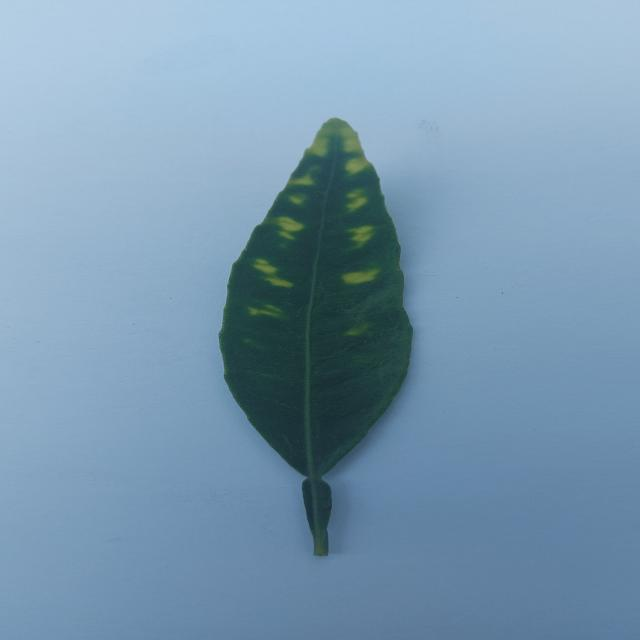greening: (220, 118, 412, 555)
